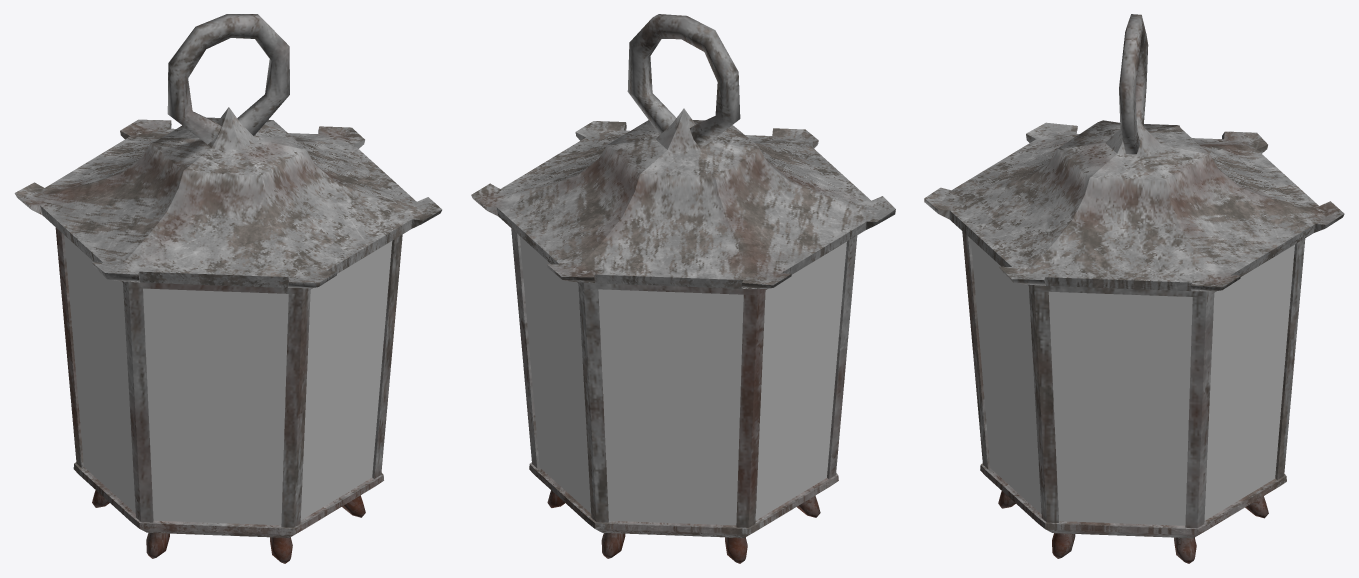
Rendered from SM_Lantern_Low.FBX.
3 renders of one model, left to right at view 1: azimuth 30°, elevation 25°; view 2: azimuth 150°, elevation 25°; view 3: azimuth 270°, elevation 25°, orthographic.
Visible parts, largest first — view 1: SM_Lantern_Low; view 2: SM_Lantern_Low; view 3: SM_Lantern_Low.
Part boxes in pixels (<box>): SM_Lantern_Low: <box>14,14,442,563</box>; SM_Lantern_Low: <box>471,14,895,563</box>; SM_Lantern_Low: <box>924,14,1344,563</box>.
Bounding box in the file's own units: 20.91 × 29.51 × 22.89.
